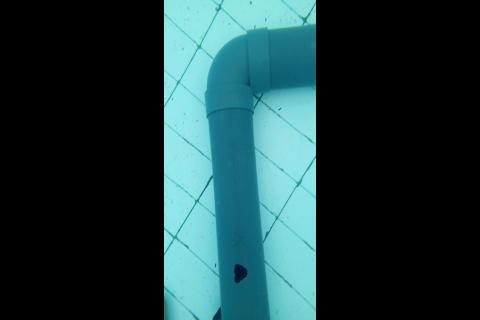kebocoran: (233, 261, 249, 284)
